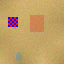person: (15, 52, 21, 61)
vehicle: (30, 14, 44, 31)
